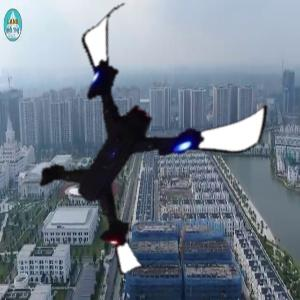drone: (15, 17, 246, 248)
